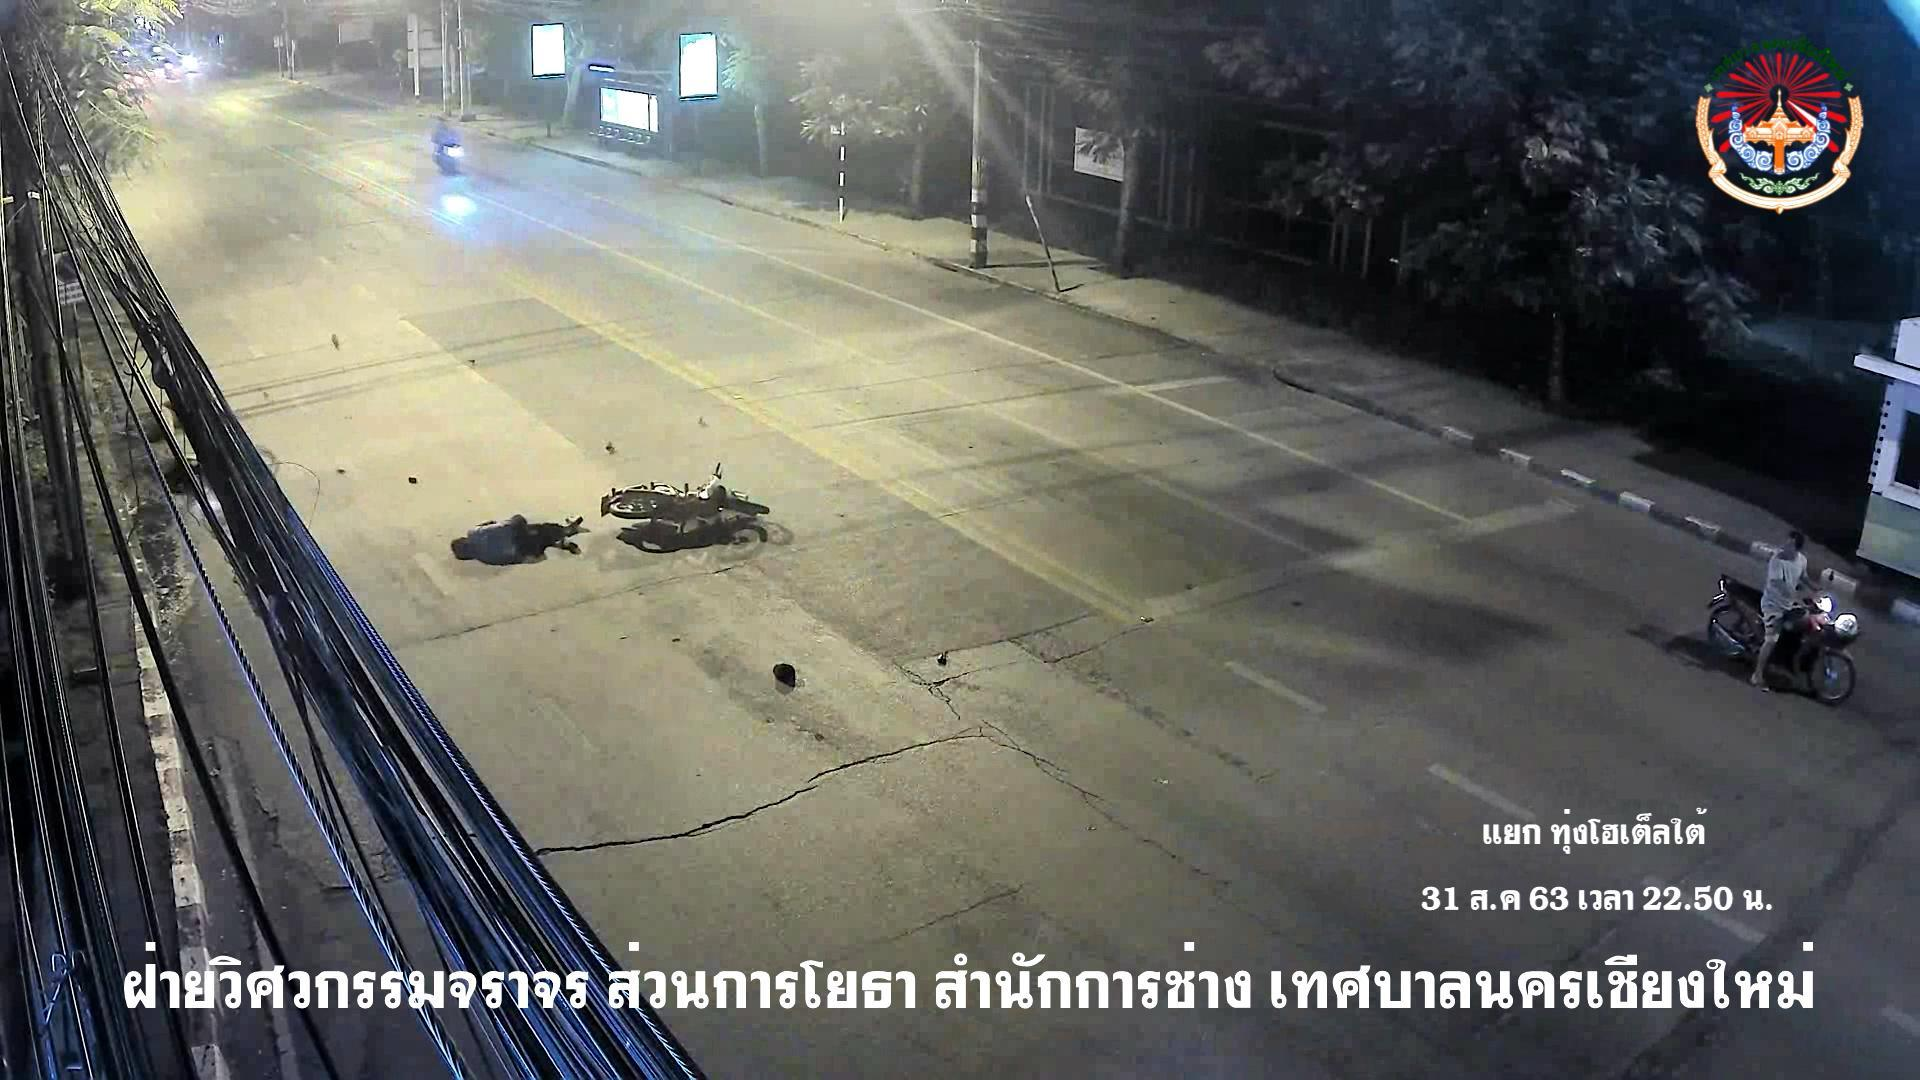accident: (447, 512, 593, 570)
